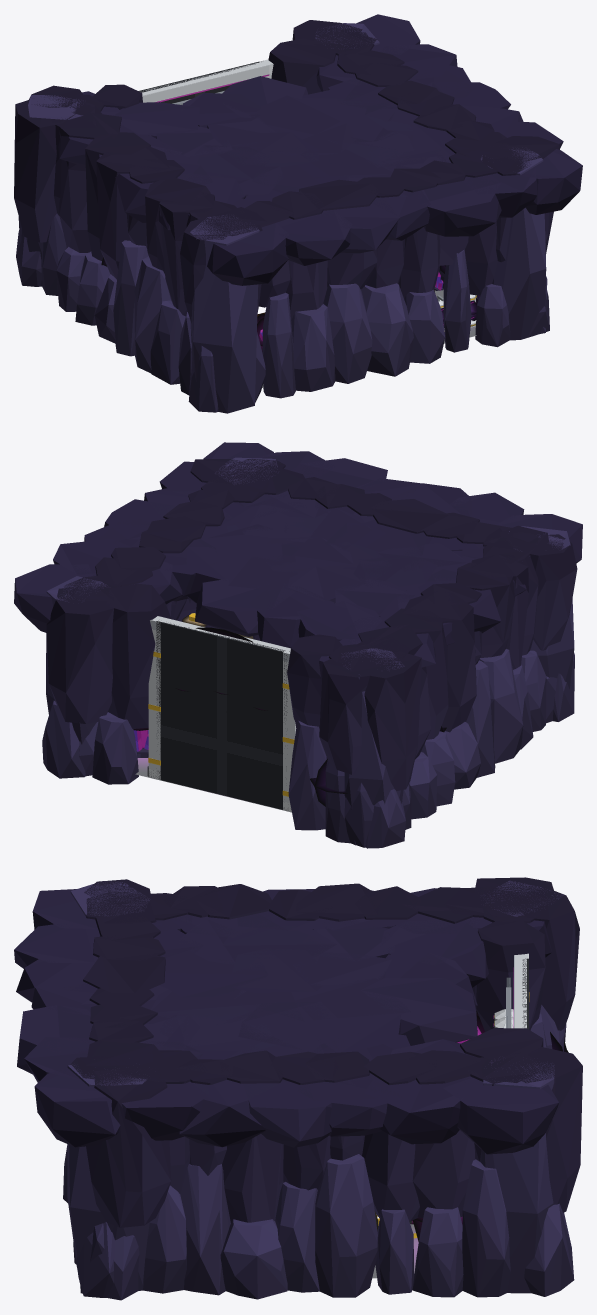
The model's file is refinery-hall.glb.
The picture shows the model from 3 angles, top to bottom: view 1: azimuth 30°, elevation 25°; view 2: azimuth 150°, elevation 25°; view 3: azimuth 270°, elevation 25°; orthographic projection. The views are drawn at different scales.
Visible parts, largest first — view 1: Batched static valley; view 2: Batched static valley; view 3: Batched static valley.
Part boxes in pixels (x1,y1,x2,y2): Batched static valley: [14, 14, 582, 413]; Batched static valley: [14, 442, 582, 848]; Batched static valley: [14, 877, 582, 1300].
Size of the model in its own units: 52.55 by 21.72 by 53.32.
12 materials, 2 textured.
